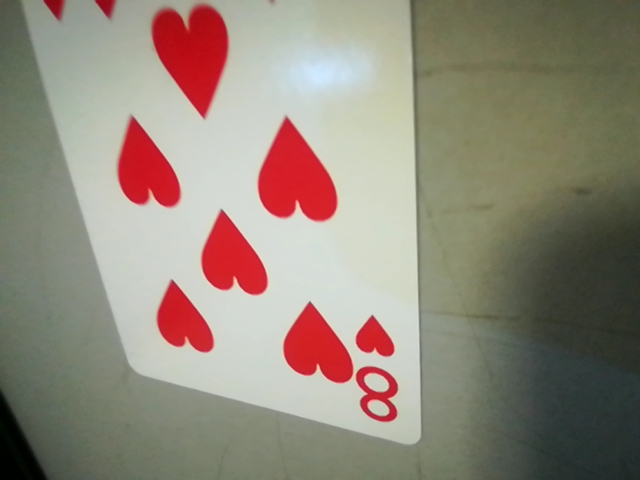hx 8: (347, 308, 416, 432)
